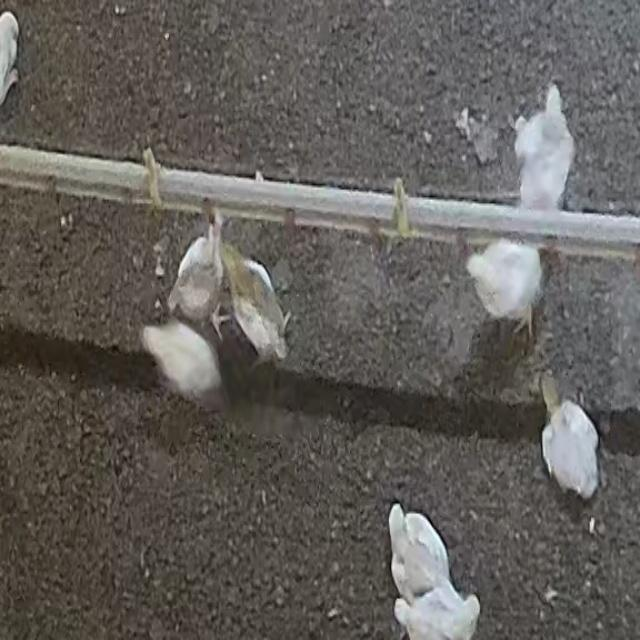chicken: (218, 243, 290, 368), (536, 374, 602, 502), (513, 83, 576, 211), (142, 322, 222, 404), (384, 502, 451, 594), (465, 248, 539, 330), (168, 228, 225, 320), (387, 591, 482, 640)
